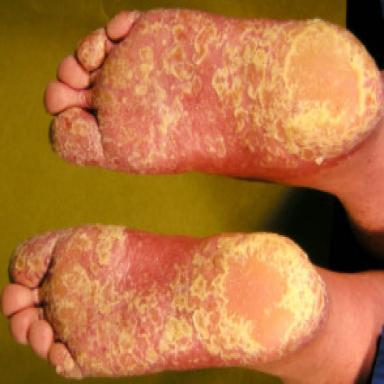eczema: (53, 11, 384, 178), (11, 224, 326, 377)
